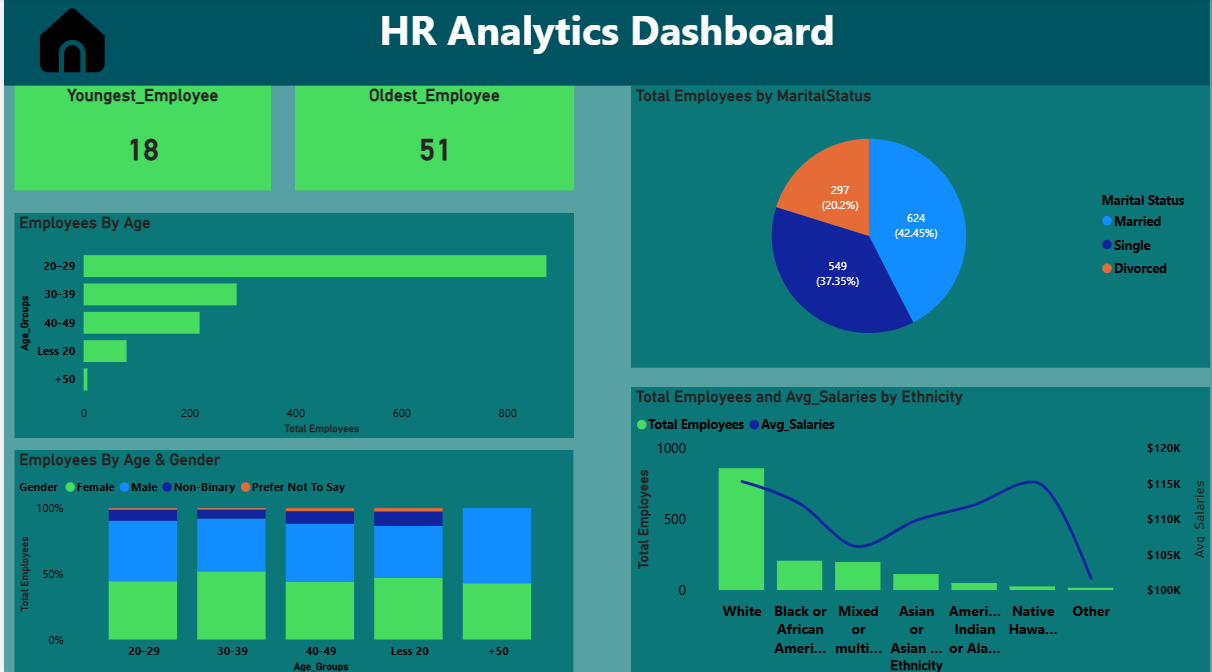

Layout of this report page (visuals, bound fields, positions):
{"tool":"powerbi","page":{"name":"Demographics","canvas":[1280,720],"ordinal":1},"visuals":[{"type":"card","title":"Youngest_Employee","fields":{"Values":["Min(Dim_Employee.Age)"]},"box":[11.1,93.8,272,111.3],"z":0},{"type":"card","title":"Oldest_Employee","fields":{"Values":["Max(Dim_Employee.Age)"]},"box":[308.6,93.8,295.9,111.3],"z":1000},{"type":"barChart","title":"Employees By Age","fields":{"Category":["Dim_Employee.Age_Groups"],"Y":["_Measures.Total Employees"]},"box":[11.1,229,593.3,238.6],"z":2000},{"type":"hundredPercentStackedColumnChart","title":"Employees By Age & Gender","fields":{"Category":["Dim_Employee.Age_Groups"],"Y":["_Measures.Total Employees"],"Series":["Dim_Employee.Gender"]},"box":[11.3,480.9,592.6,239.6],"z":3000},{"type":"pieChart","fields":{"Category":["Dim_Employee.MaritalStatus"],"Y":["_Measures.Total Employees"]},"box":[664.9,93.8,614,299],"z":4000},{"type":"lineStackedColumnComboChart","fields":{"Category":["Dim_Employee.Ethnicity"],"Y":["_Measures.Total Employees"],"Y2":["_Measures.Avg_Salaries"]},"box":[664.9,413.6,614,307],"z":5000},{"type":"textbox","box":[0,0,1278.9,93.8],"z":6000},{"type":"image","box":[33.4,11.1,77.9,68.4],"z":7000}]}

Visuals, with their boxes in screenshot pixels (x1, y1, x2, y2), scaled from the page's 1280x720 canvas onto the 1212x672 screenshot:
"Youngest_Employee" card: (x1=11, y1=88, x2=268, y2=191)
"Oldest_Employee" card: (x1=292, y1=88, x2=572, y2=191)
"Employees By Age" barChart: (x1=11, y1=214, x2=572, y2=436)
"Employees By Age & Gender" hundredPercentStackedColumnChart: (x1=11, y1=449, x2=572, y2=671)
pieChart - Dim_Employee.MaritalStatus x _Measures.Total Employees: (x1=630, y1=88, x2=1211, y2=367)
lineStackedColumnComboChart - Dim_Employee.Ethnicity x _Measures.Total Employees: (x1=630, y1=386, x2=1211, y2=671)
textbox: (x1=0, y1=0, x2=1211, y2=88)
image: (x1=32, y1=10, x2=105, y2=74)
